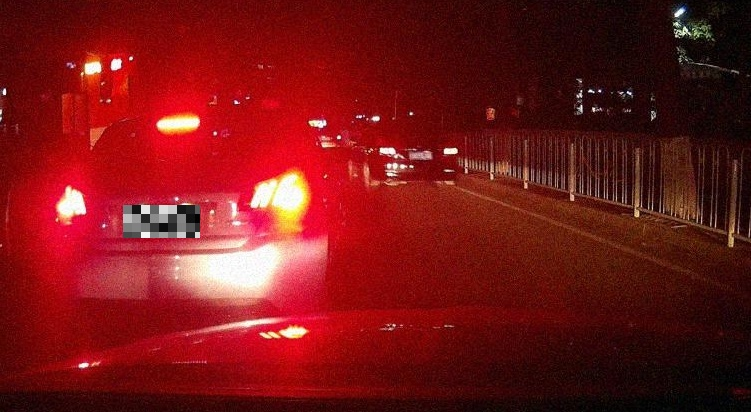L_light: (57, 187, 101, 228), (374, 146, 396, 155)
R_light: (236, 171, 313, 213), (440, 146, 458, 155)
T_light: (155, 119, 200, 131), (409, 124, 424, 128)
night-no: (370, 121, 460, 190)
night-right: (55, 102, 330, 324)
plate_1: (123, 205, 200, 238)
